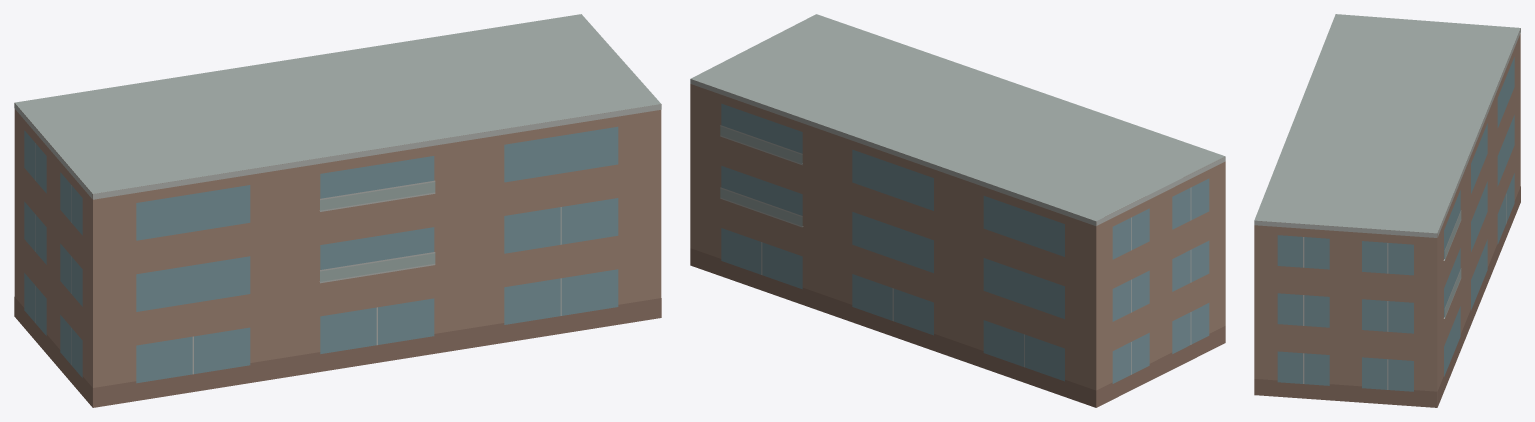
The model's file is survey-upis-33005377.glb.
The picture shows the model from 3 angles, left to right: view 1: azimuth 30°, elevation 25°; view 2: azimuth 150°, elevation 25°; view 3: azimuth 270°, elevation 25°; orthographic projection. The views are drawn at different scales.
Visible parts, largest first — view 1: survey-upis-33005377.tmp; view 2: survey-upis-33005377.tmp; view 3: survey-upis-33005377.tmp.
Part boxes in pixels (x1,y1,x2,y2): survey-upis-33005377.tmp: [14, 14, 661, 407]; survey-upis-33005377.tmp: [690, 14, 1225, 407]; survey-upis-33005377.tmp: [1254, 14, 1520, 407].
Size of the model in its own units: 24.68 by 9.15 by 12.68.
